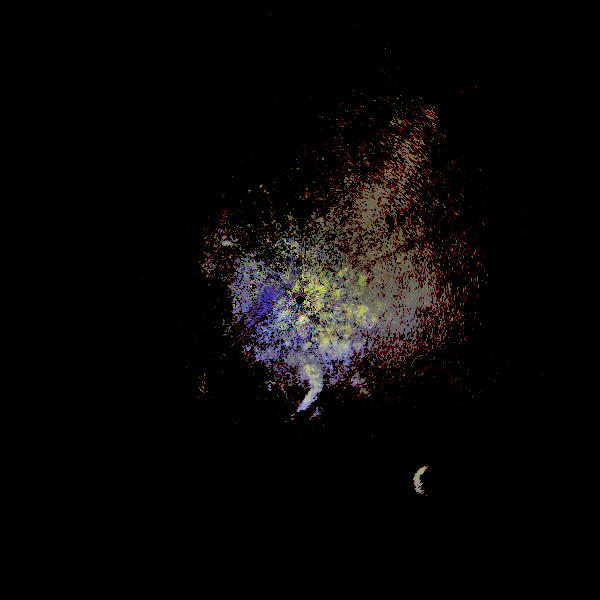roost: (403, 432, 493, 522), (257, 347, 335, 425), (253, 175, 286, 208)
